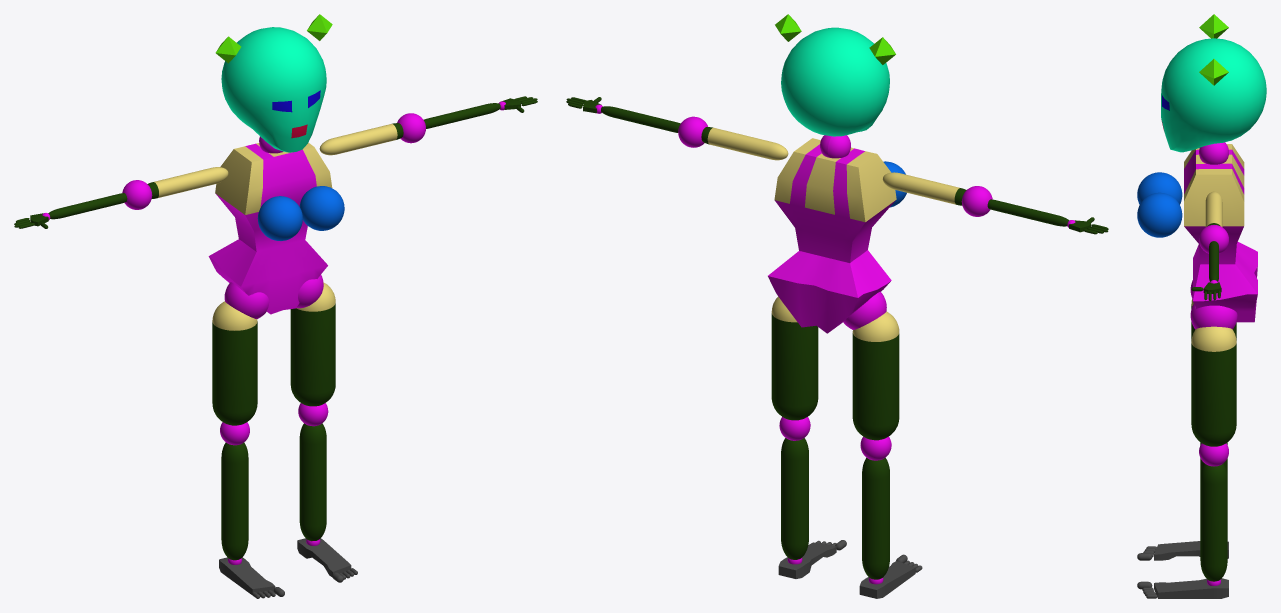
Rendered from DauterUnmixamoedRehinged.fbx.
The picture shows the model from 3 angles, left to right: view 1: azimuth 30°, elevation 25°; view 2: azimuth 150°, elevation 25°; view 3: azimuth 270°, elevation 25°; orthographic projection. The views are drawn at different scales.
Parts seen in each view (by area): view 1: DauterBase.rehinged; view 2: DauterBase.rehinged; view 3: DauterBase.rehinged.
Boxes of the visible parts, x1=… form: DauterBase.rehinged: x1=14, y1=14, x2=537, y2=598; DauterBase.rehinged: x1=566, y1=14, x2=1108, y2=598; DauterBase.rehinged: x1=1137, y1=14, x2=1266, y2=598.
Bounding box in the file's own units: 802 × 788 × 172.
